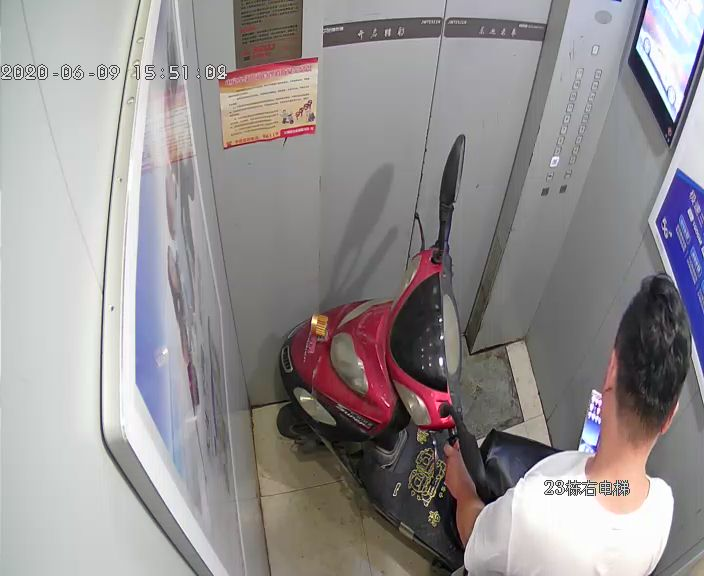Electric-bicycle: (275, 132, 560, 576)
